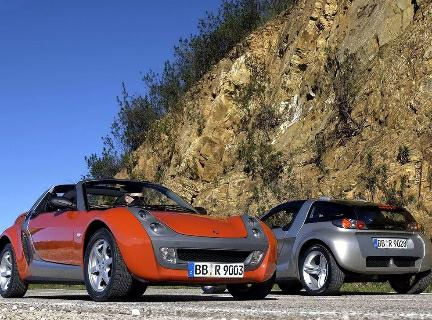smart-roadster: (0, 179, 279, 300)
